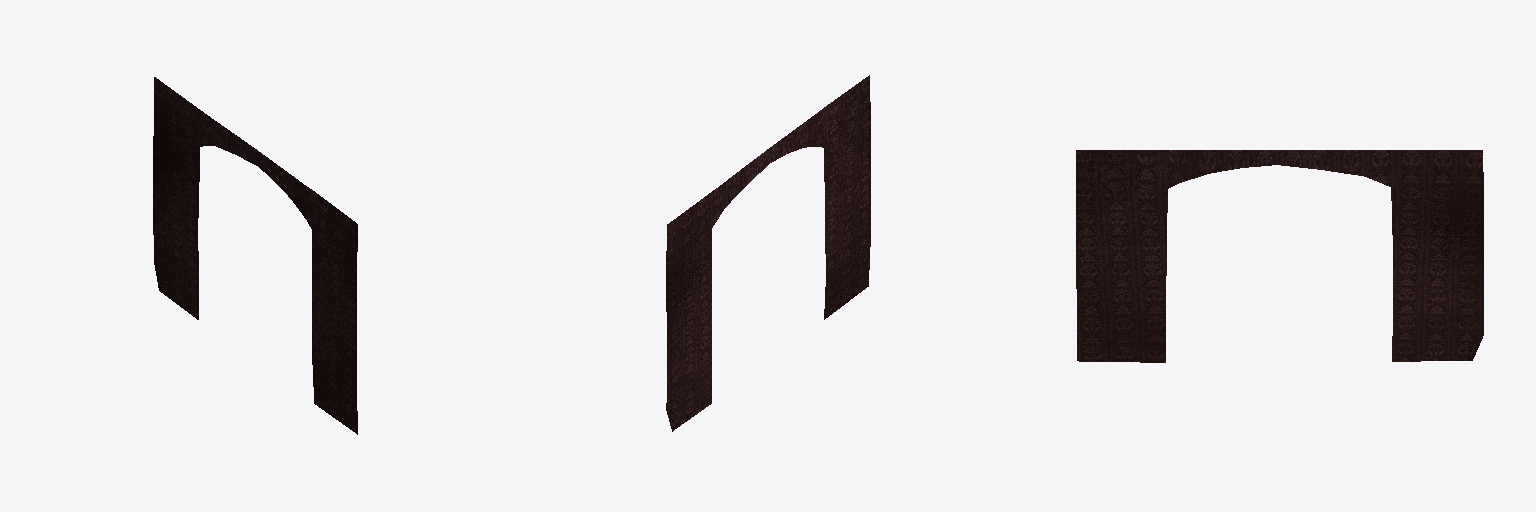
3 views of the same model, side by side, from view 1: azimuth 30°, elevation 25°; view 2: azimuth 150°, elevation 25°; view 3: azimuth 270°, elevation 25° (orthographic).
Visible parts, largest first — view 1: Kitchen_GEO_GRP1_Kitchen_116; view 2: Kitchen_GEO_GRP1_Kitchen_116; view 3: Kitchen_GEO_GRP1_Kitchen_116.
Part boxes in pixels (left/top/right/bottom): Kitchen_GEO_GRP1_Kitchen_116: left=153, top=77, right=357, bottom=434; Kitchen_GEO_GRP1_Kitchen_116: left=666, top=75, right=870, bottom=431; Kitchen_GEO_GRP1_Kitchen_116: left=1076, top=150, right=1483, bottom=362.
Bounding box in the file's own units: 0.0411 × 3.58 × 6.23.
Materials: 1 (1 with a texture image).